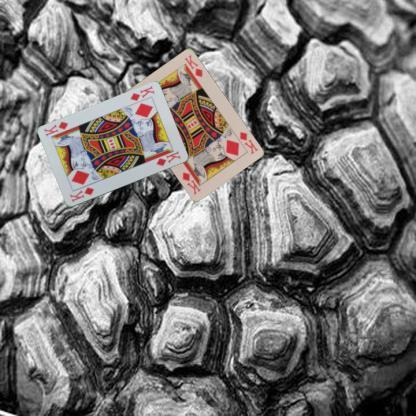Kd: (237, 128, 259, 156), (66, 185, 96, 204), (128, 84, 156, 102)
